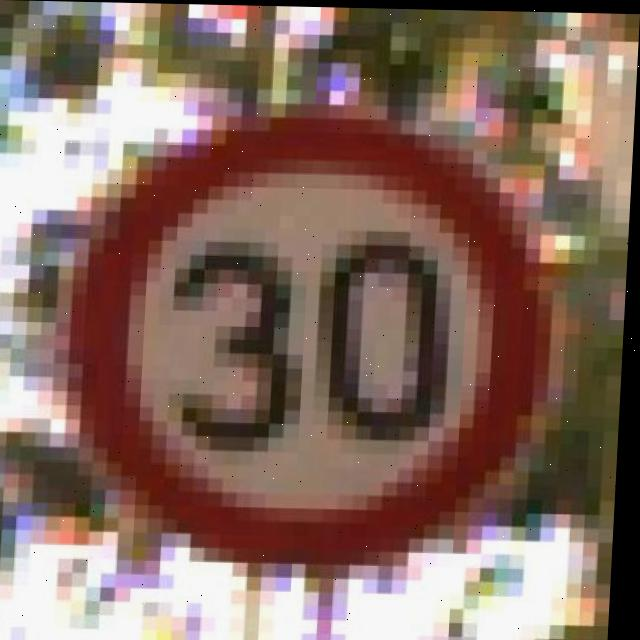Speed limit 30: (71, 113, 549, 566)
